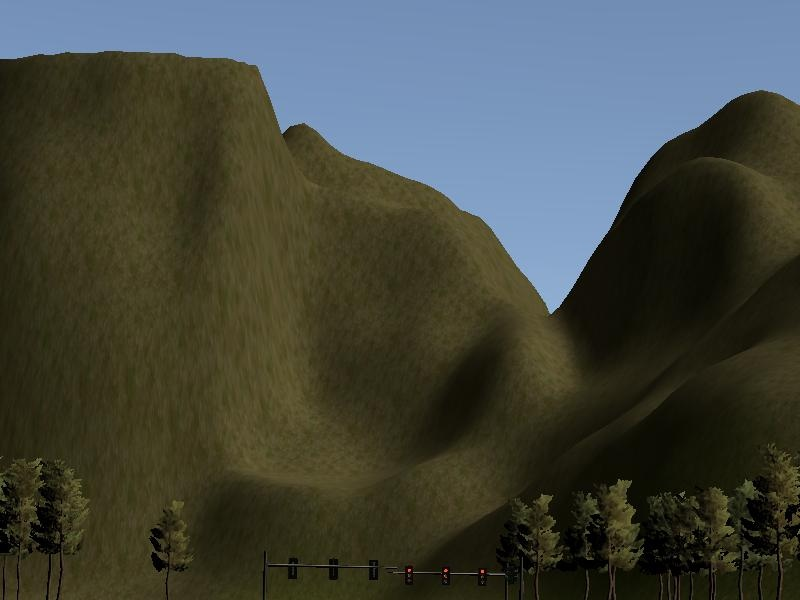red: (441, 565, 451, 588), (477, 566, 487, 589), (405, 566, 414, 588)
